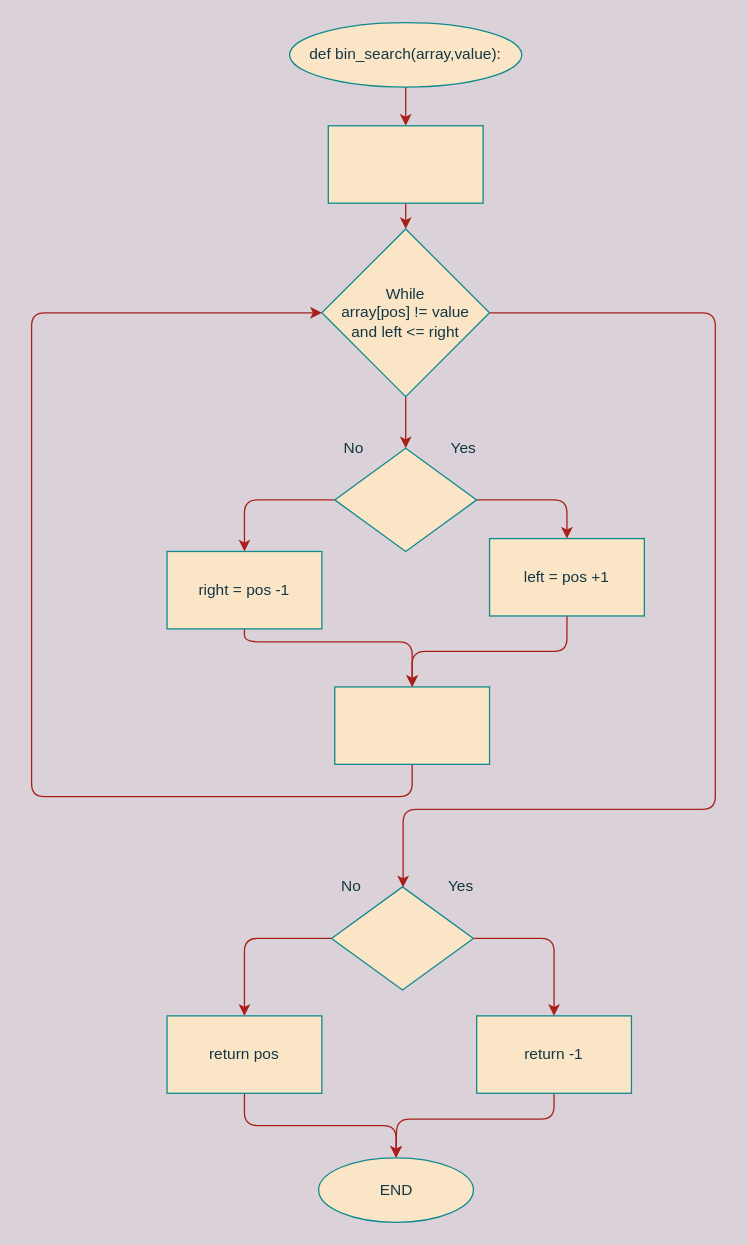
The diagram is 748 pixels wide and 1245 high, and some of its shapes have lost their labels. Each missing label, with the box of its shape:
left = 0 right = len(array)-1 pos = len(array) // 2: (327, 124, 483, 203)
left > right: (330, 886, 473, 990)
pos = (left + right) // 2: (333, 686, 490, 764)
value > array[pos]: (333, 447, 477, 551)
